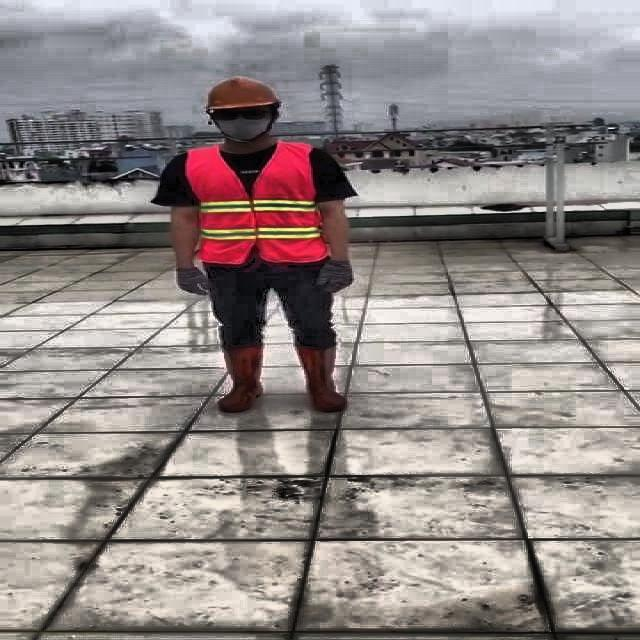safety_helmet: (202, 76, 278, 110)
safety_jacket: (184, 145, 326, 264)
